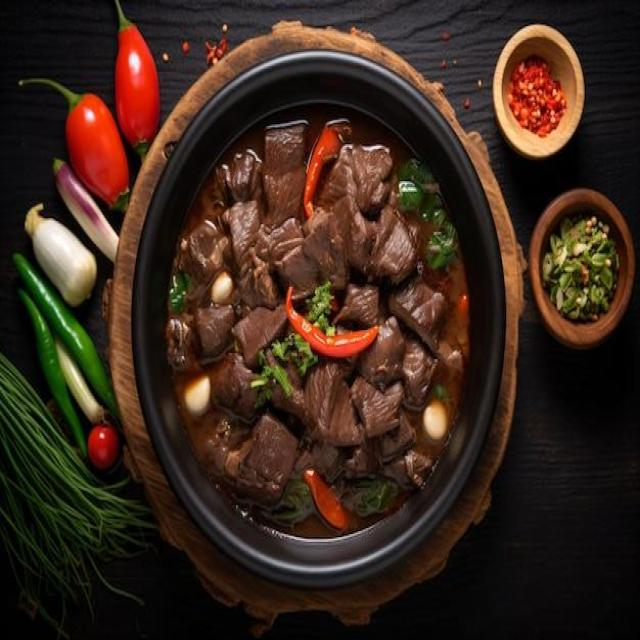Rawon: (180, 129, 469, 528)
